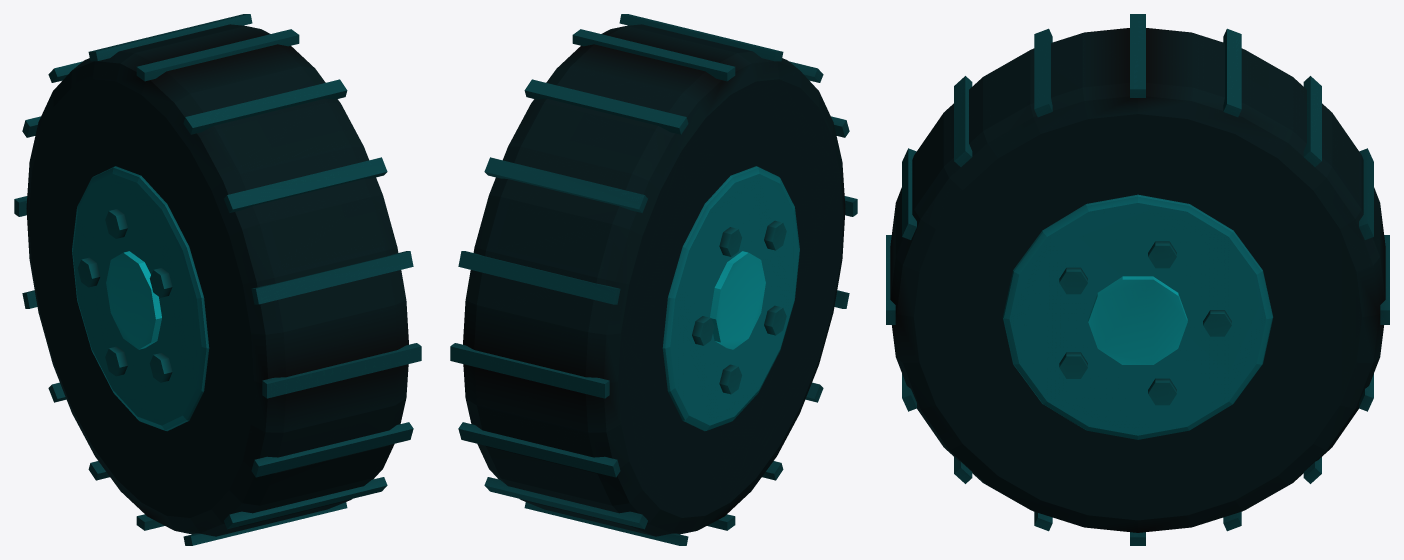
File: tyre_solid.glb
3 renders of one model, left to right at view 1: azimuth 30°, elevation 25°; view 2: azimuth 150°, elevation 25°; view 3: azimuth 270°, elevation 25°, orthographic.
Visible parts, largest first — view 1: tyre_solid; view 2: tyre_solid; view 3: tyre_solid.
Boxes of the visible parts, x1,y1,x2,y2 form: tyre_solid: (14,14,421,545); tyre_solid: (450,14,857,545); tyre_solid: (886,14,1389,545).
Size of the model in its own units: 0.268 by 0.6289 by 0.6289.
Materials: 1 (1 with a texture image).
